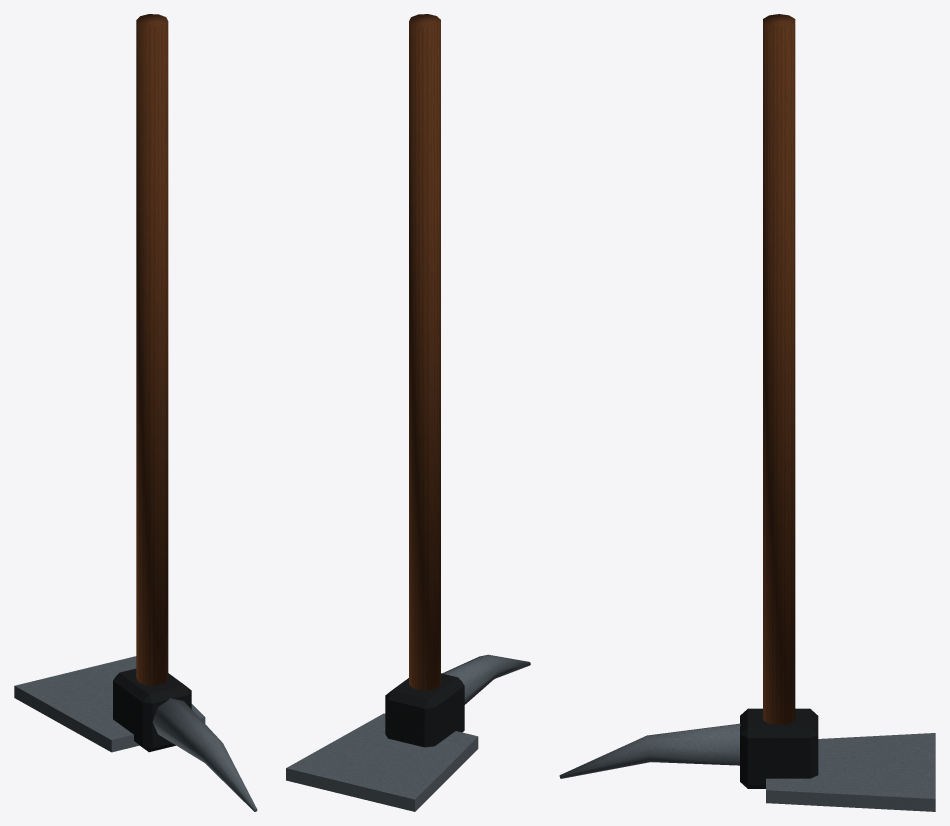
Rendered from Mattock.gltf.
The picture shows the model from 3 angles, left to right: view 1: azimuth 30°, elevation 25°; view 2: azimuth 150°, elevation 25°; view 3: azimuth 270°, elevation 25°; orthographic projection. The views are drawn at different scales.
Visible parts, largest first — view 1: Mattock__Body; view 2: Mattock__Body; view 3: Mattock__Body.
Boxes of the visible parts, x1=… form: Mattock__Body: x1=14, y1=14, x2=257, y2=811; Mattock__Body: x1=286, y1=14, x2=530, y2=811; Mattock__Body: x1=559, y1=14, x2=935, y2=811.
Size of the model in its own units: 0.168 by 0.8988 by 0.4039.
1 material, 1 textured.
